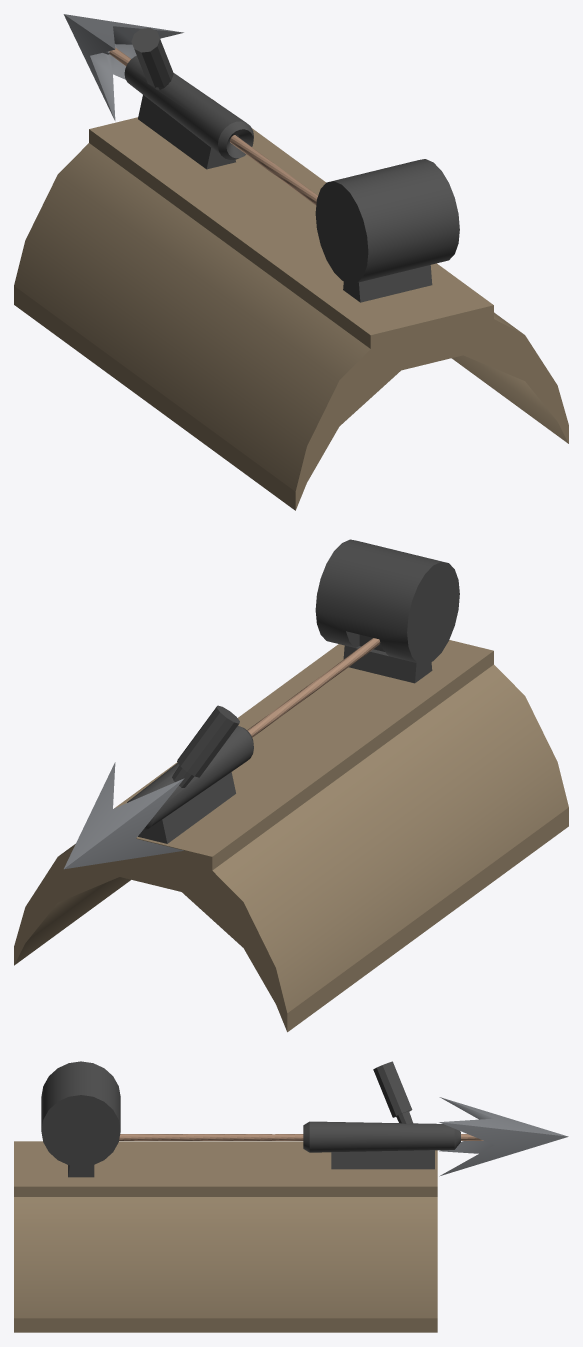
File: Hook Holder.fbx
3 renders of one model, top to bottom at view 1: azimuth 30°, elevation 25°; view 2: azimuth 150°, elevation 25°; view 3: azimuth 270°, elevation 25°, orthographic. The views are drawn at different scales.
Visible parts, largest first — view 1: Hook1; view 2: Hook1; view 3: Hook1.
Part boxes in pixels (x1=…): Hook1: x1=14, y1=14, x2=568, y2=510; Hook1: x1=14, y1=539, x2=568, y2=1032; Hook1: x1=14, y1=1061, x2=568, y2=1332.
Bounding box in the file's own units: 0.3362 × 0.3241 × 0.7857.
